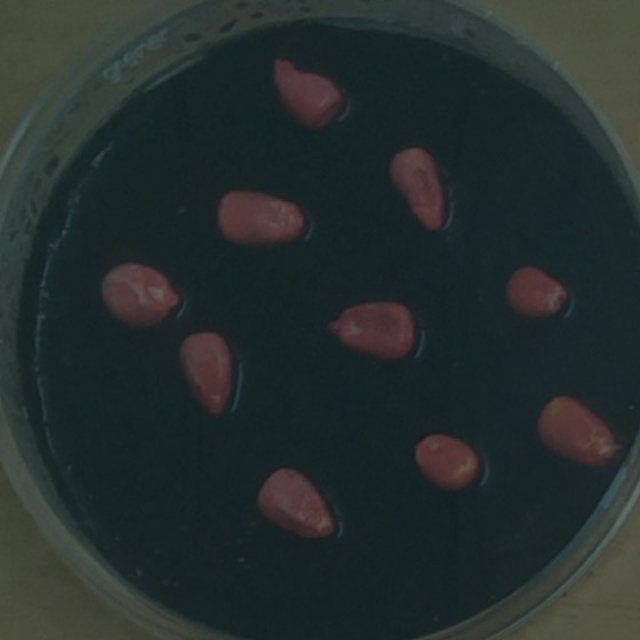Zea mays: (526, 385, 627, 476), (245, 459, 346, 549), (317, 290, 424, 371), (206, 179, 315, 255), (263, 49, 355, 139), (377, 138, 456, 241), (93, 253, 188, 336), (169, 321, 242, 426), (403, 425, 488, 502), (496, 258, 574, 328)
